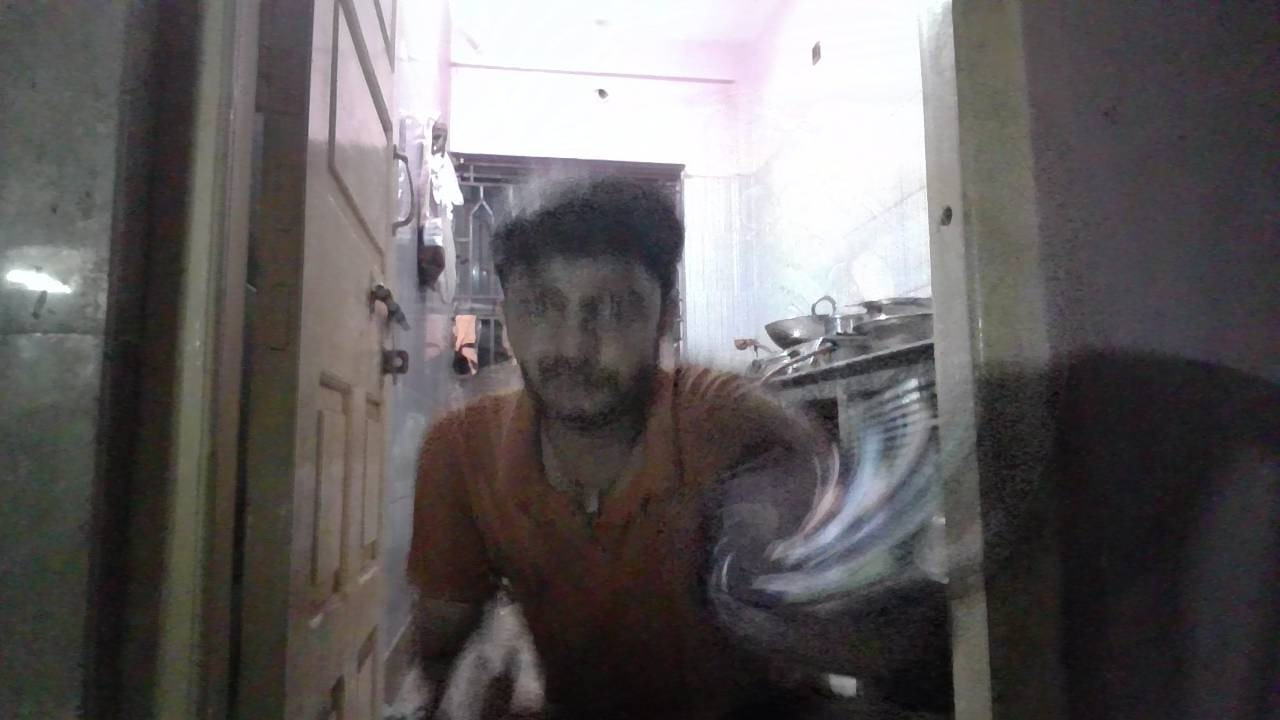red_box: (409, 399, 576, 576), (596, 474, 665, 533)
